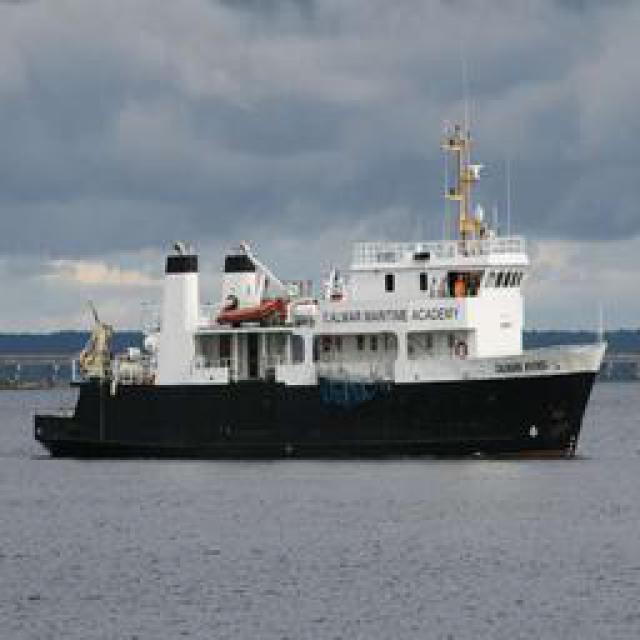Ship: (36, 104, 611, 457)
